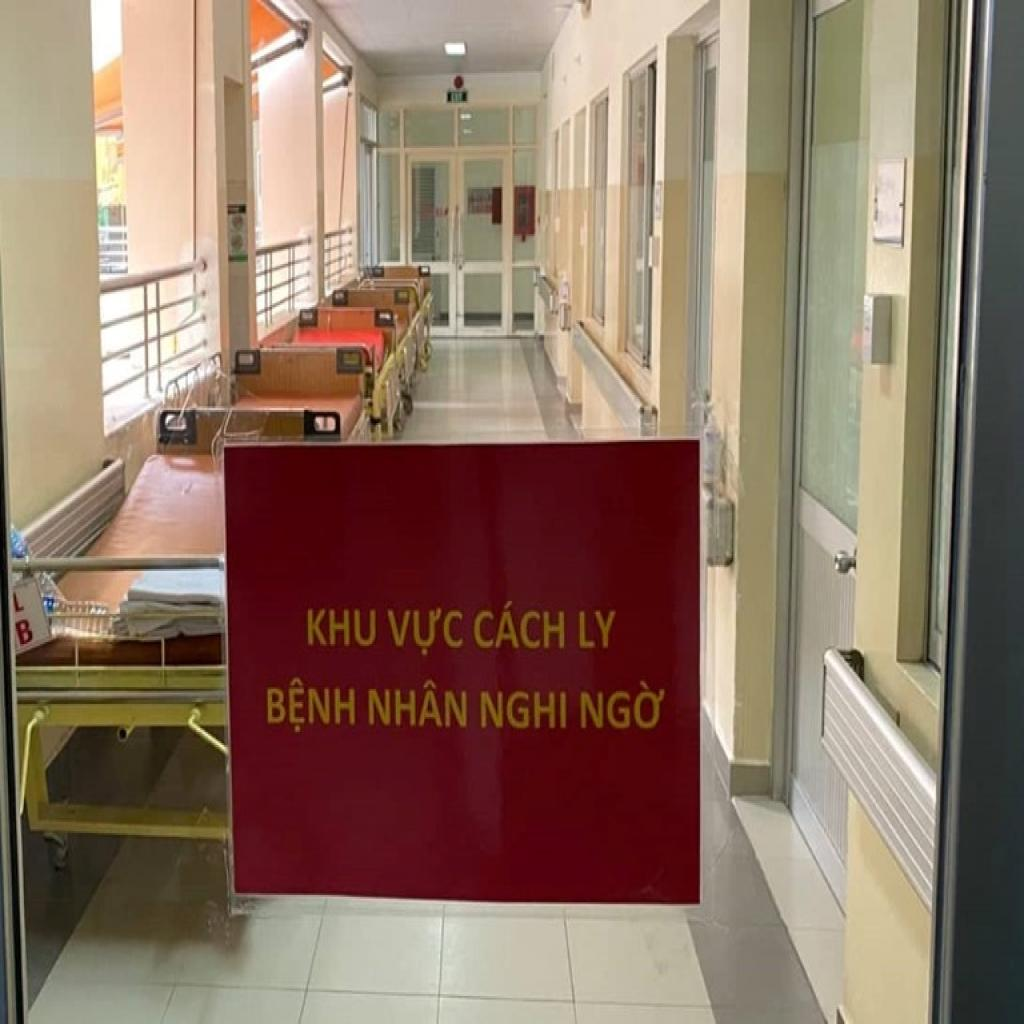text: (258, 670, 362, 740), (472, 590, 569, 657), (366, 674, 470, 736), (575, 678, 669, 738), (382, 599, 470, 659), (476, 679, 569, 734), (304, 599, 380, 653), (571, 597, 624, 661), (12, 590, 27, 616)
